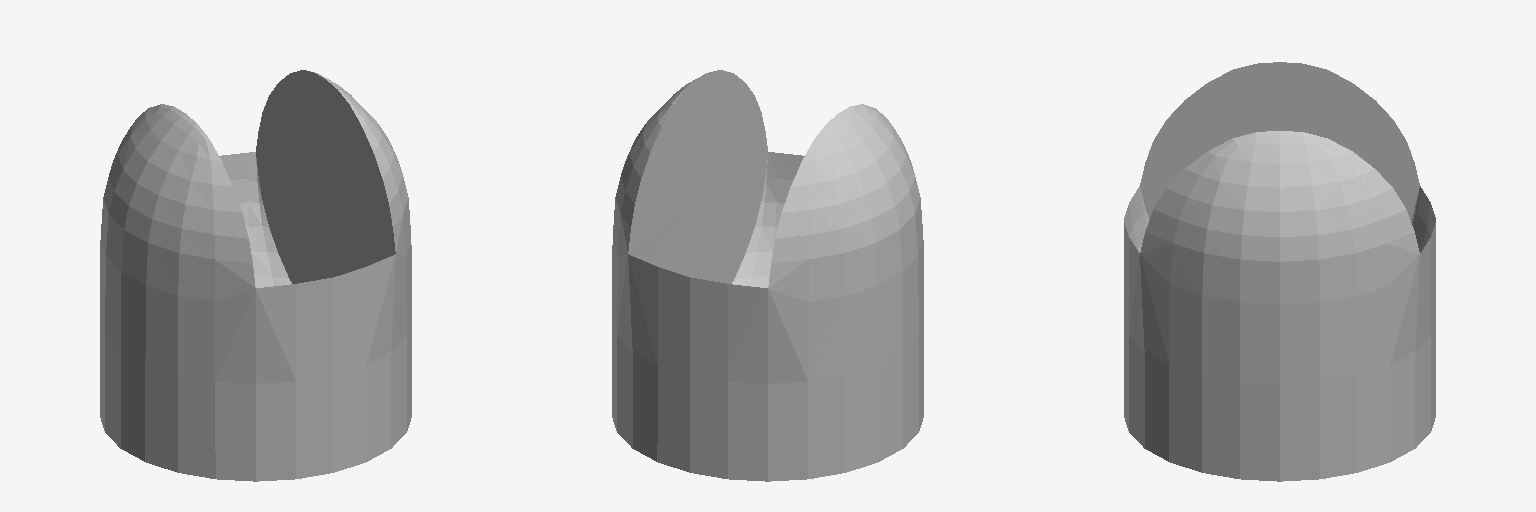
Rendered from Tr-Grue-LeverBase-Y_02.obj.
The picture shows the model from 3 angles: view 1: azimuth 30°, elevation 25°; view 2: azimuth 150°, elevation 25°; view 3: azimuth 270°, elevation 25°; orthographic projection.
Parts seen in each view (by area): view 1: Tr-Grue-LeverBase-Y_02_BaseLevier.011; view 2: Tr-Grue-LeverBase-Y_02_BaseLevier.011; view 3: Tr-Grue-LeverBase-Y_02_BaseLevier.011.
Part boxes in pixels (x1,y1,x2,y2): Tr-Grue-LeverBase-Y_02_BaseLevier.011: (100,70,411,481); Tr-Grue-LeverBase-Y_02_BaseLevier.011: (612,70,923,481); Tr-Grue-LeverBase-Y_02_BaseLevier.011: (1124,62,1435,481).
Size of the model in its own units: 0.0725 by 0.0816 by 0.0725.